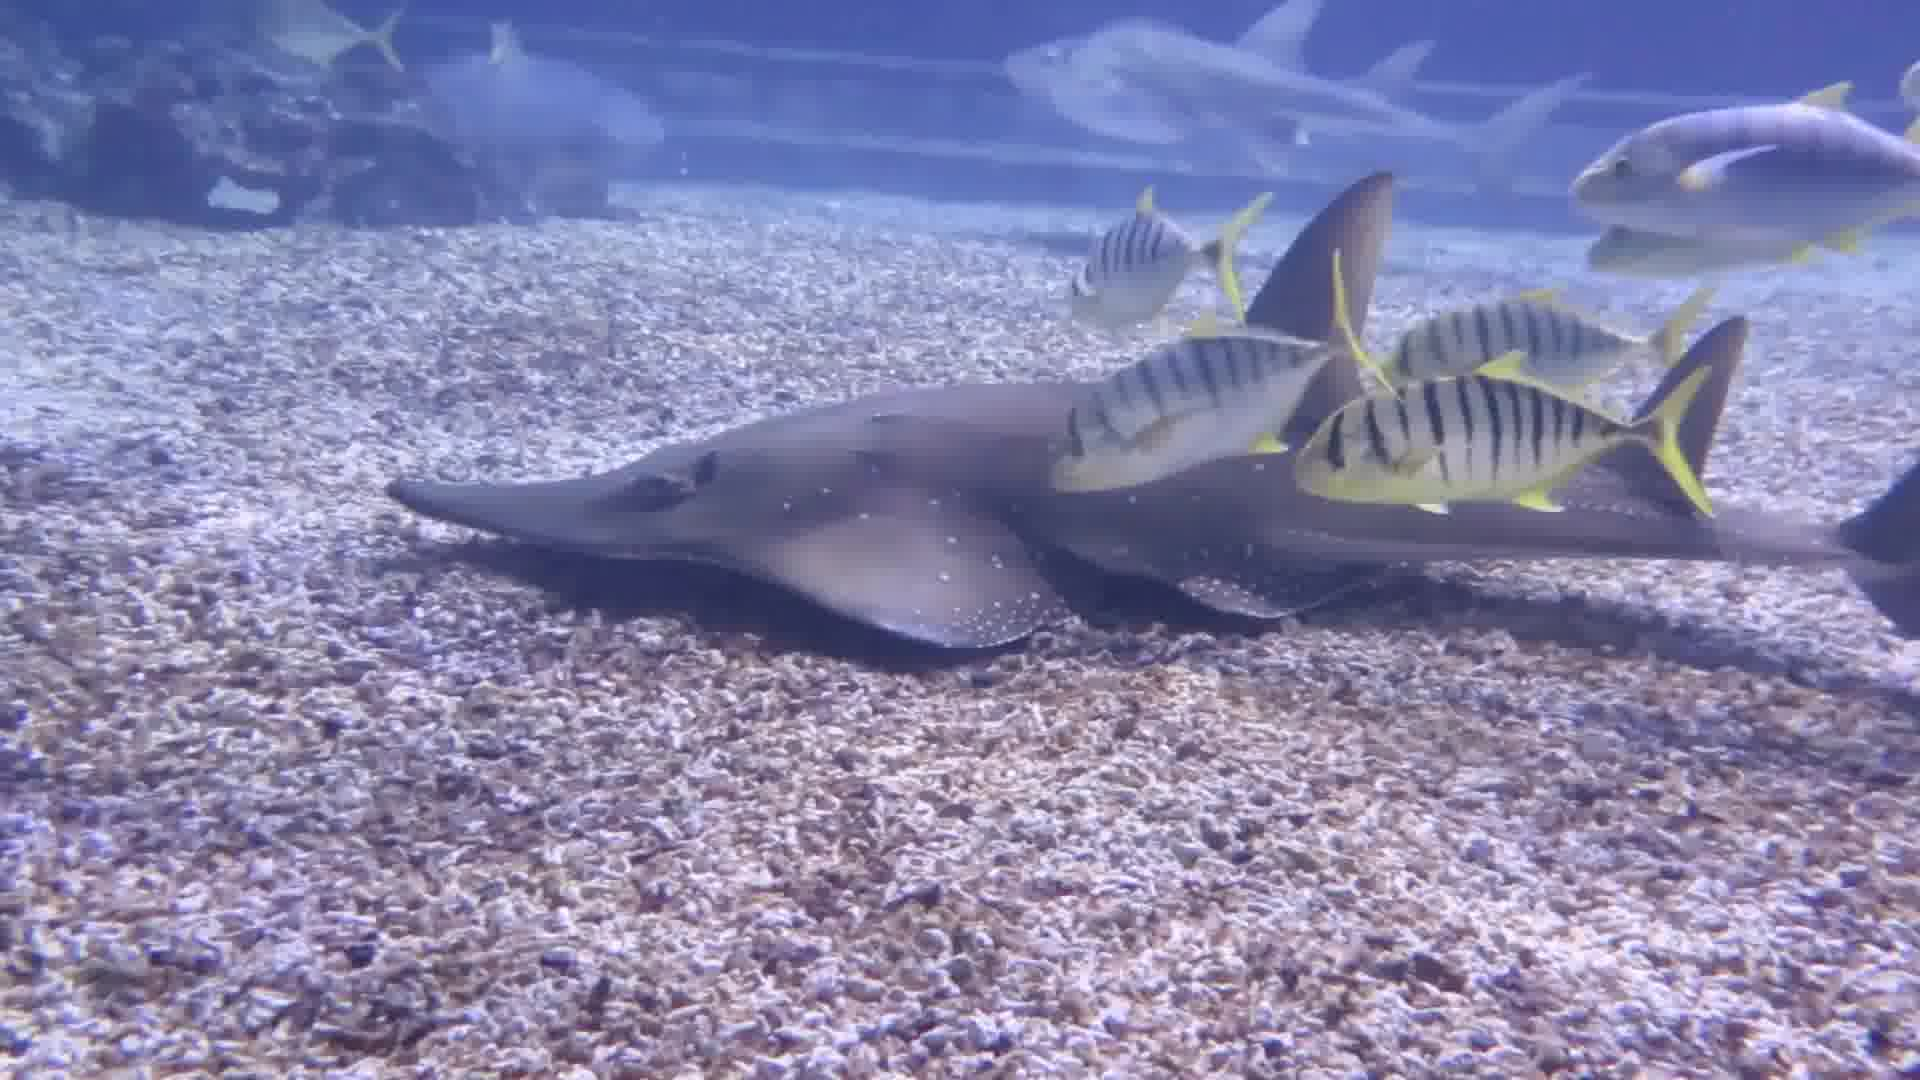Rhychobatus djiddensis: (272, 228, 1920, 707)
